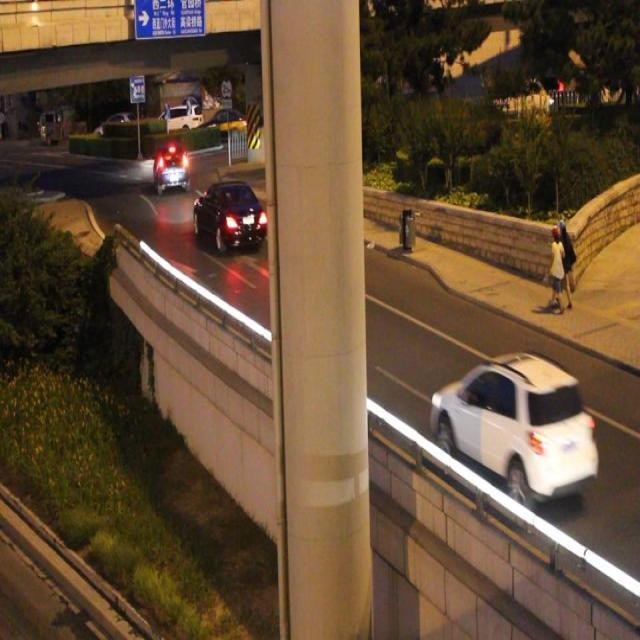car: (431, 351, 598, 501), (193, 179, 267, 254), (154, 143, 190, 194)
